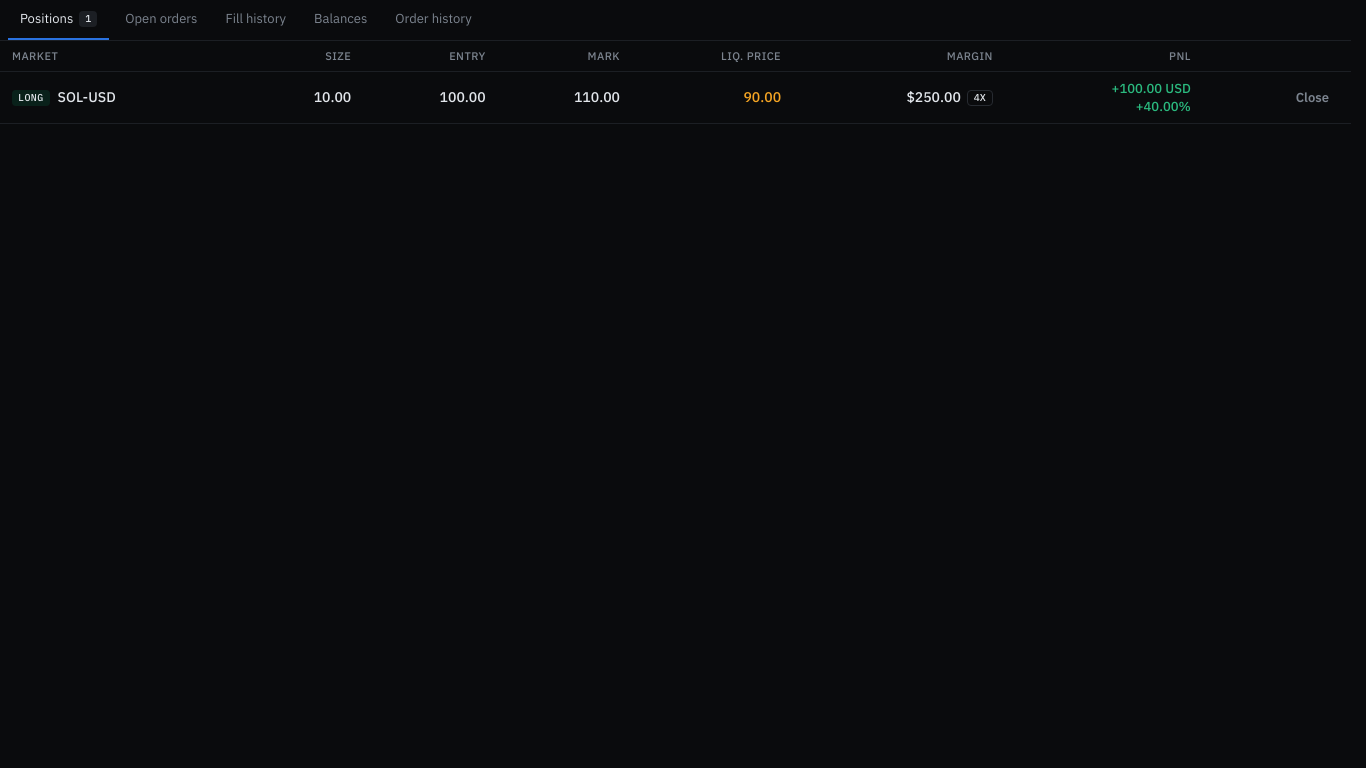
Test: closing a position › issues no request when the confirm is dismissed
Click the button "Close".
click(1312, 98)  # box left=1286, top=84, right=1339, bottom=112
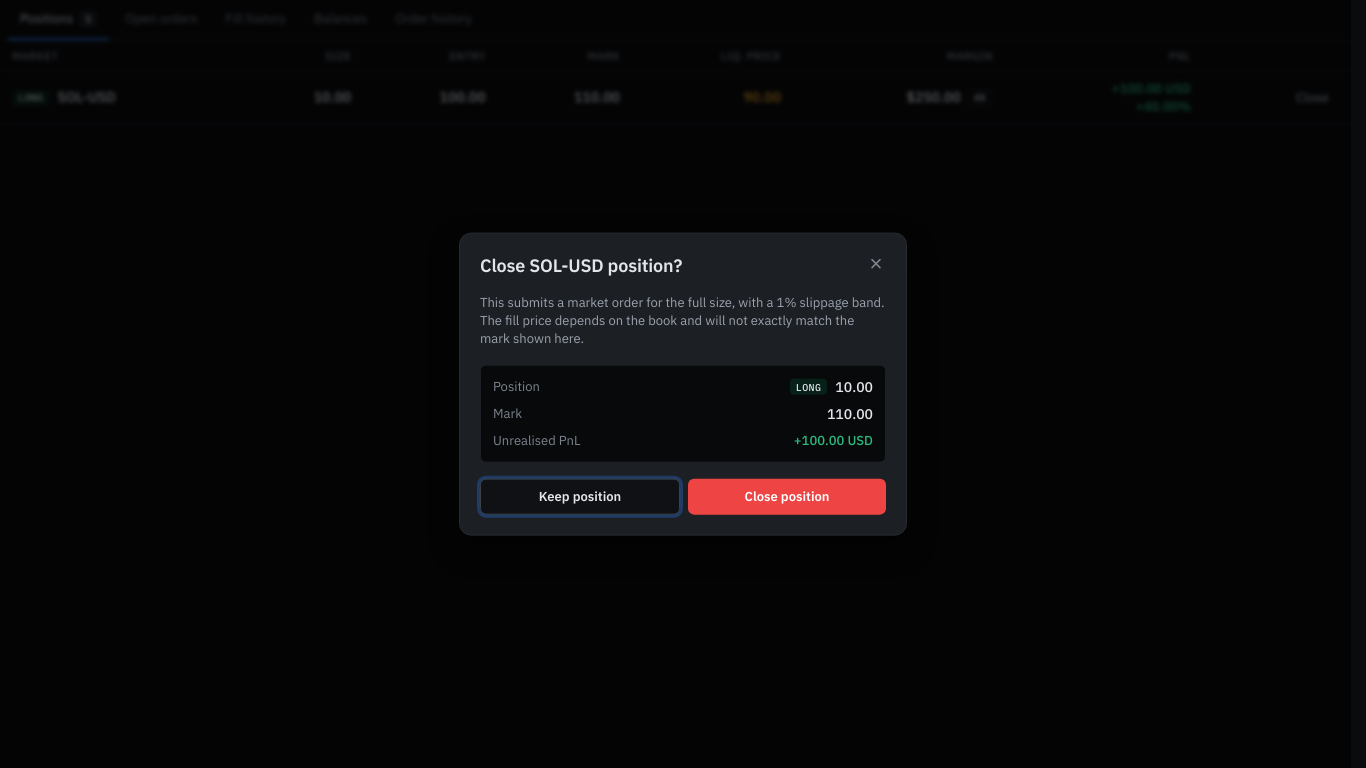
Click the button "Keep position".
click(580, 496)  # box left=480, top=478, right=680, bottom=514
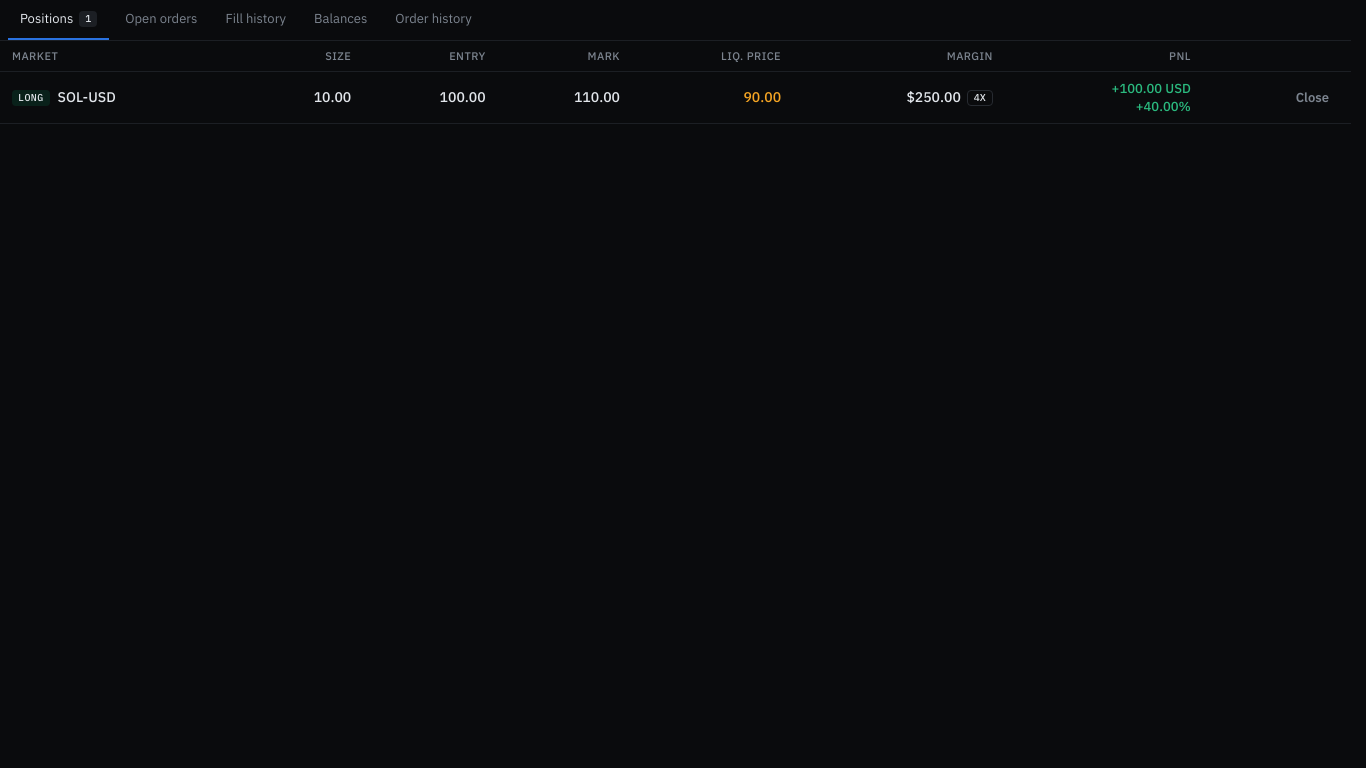
Expected: the dialog is gone
